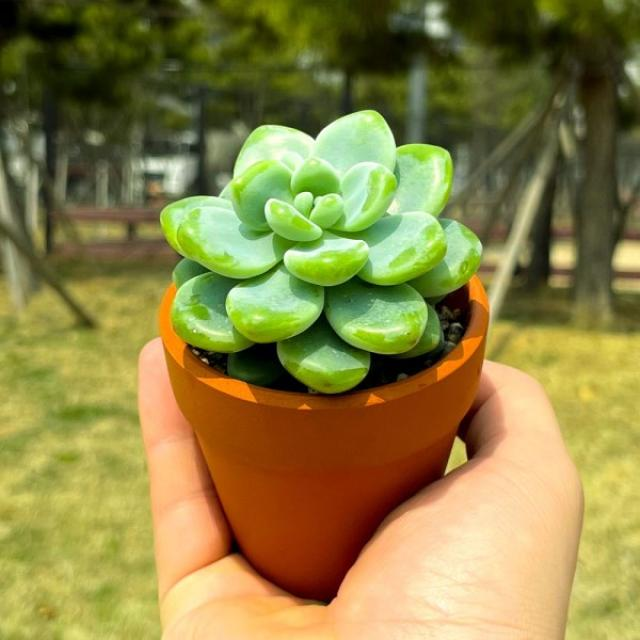LumiRose: (160, 110, 481, 394)
